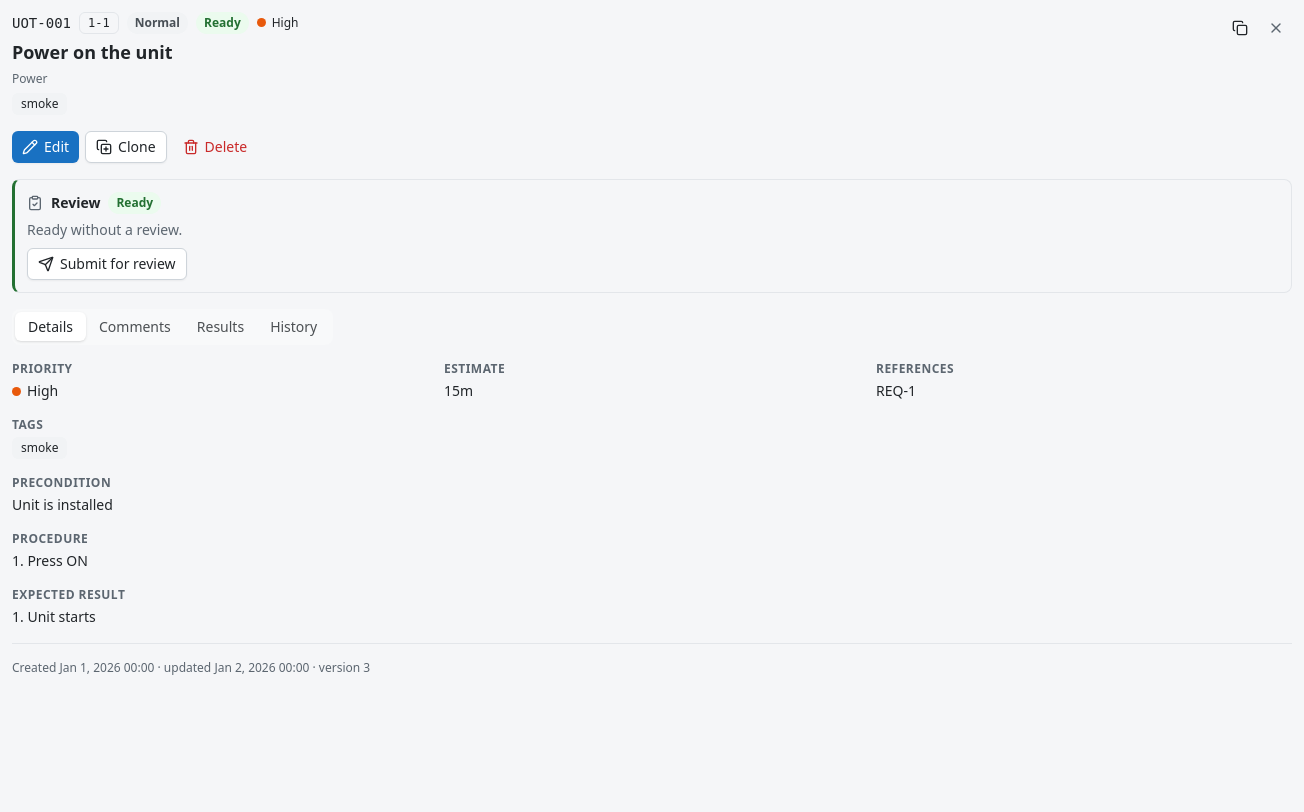
Scenario: CaseDetail › lists the results of the case in runs
Click the tab "Results" at (220, 327), box x1=184 y1=312 x2=257 y2=341
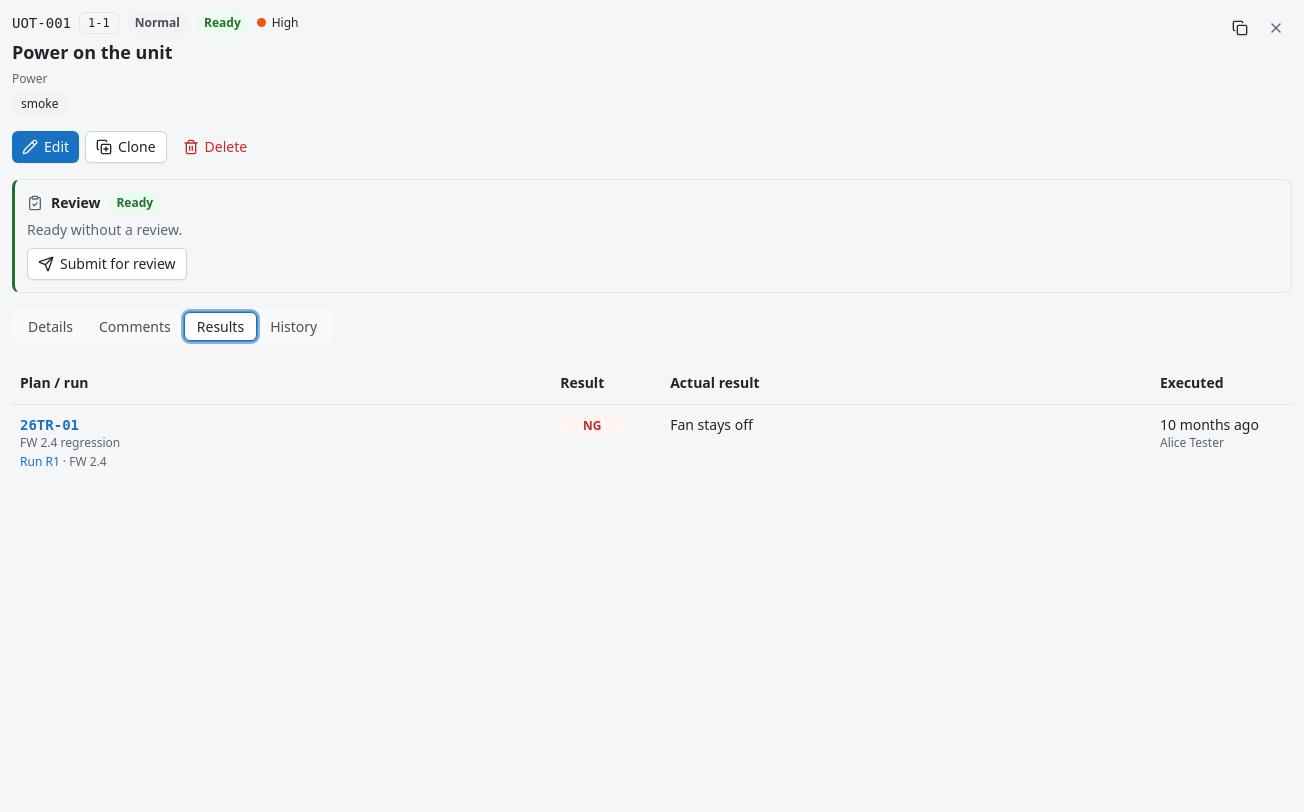
Expected: the text "NG" is shown, x1=560 y1=415 x2=624 y2=437
Expected: the text "Fan stays off" is shown, x1=670 y1=415 x2=753 y2=434
